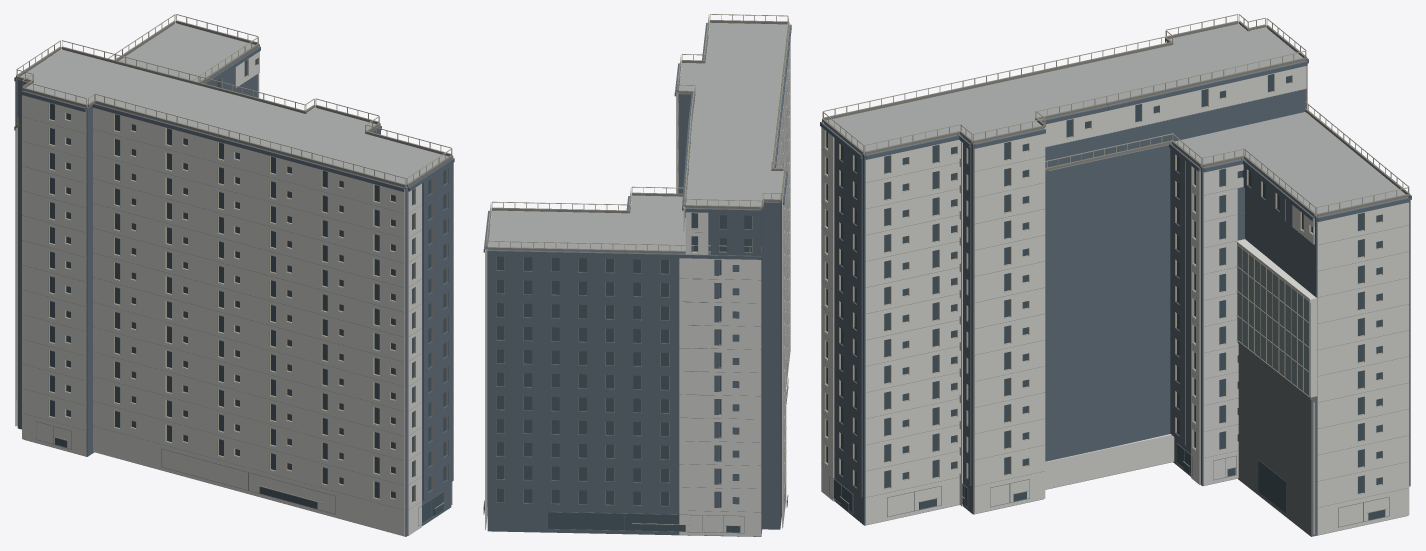
File: bespoke-raemian-onebailey-102.glb
3 renders of one model, left to right at view 1: azimuth 30°, elevation 25°; view 2: azimuth 150°, elevation 25°; view 3: azimuth 270°, elevation 25°, orthographic. The views are drawn at different scales.
Visible parts, largest first — view 1: 102_observed_facade_bays006_4, 102_setback_roof_and_bridge_bracing006_2, 102_authored_massing, 102_observed_facade_bays006_1, 102_observed_facade_bays006_2, 102_observed_facade_bays006_5, 102_setback_roof_and_bridge_bracing006; view 2: 102_authored_massing, 102_observed_facade_bays006_4, 102_setback_roof_and_bridge_bracing006_2, 102_observed_facade_bays006_1, 102_observed_facade_bays006_2, 102_setback_roof_and_bridge_bracing006, 102_observed_facade_bays006_5; view 3: 102_observed_facade_bays006_4, 102_authored_massing, 102_setback_roof_and_bridge_bracing006_2, 102_observed_facade_bays006_2, 102_observed_facade_bays006_1, 102_observed_facade_bays006_5, 102_observed_facade_bays006, 102_setback_roof_and_bridge_bracing006.
Part boxes in pixels (x1,y1,x2,y2): 102_observed_facade_bays006_4: (15, 46, 452, 536); 102_setback_roof_and_bridge_bracing006_2: (18, 23, 448, 187); 102_authored_massing: (14, 23, 454, 536); 102_observed_facade_bays006_1: (50, 59, 446, 523); 102_observed_facade_bays006_2: (16, 14, 452, 508); 102_observed_facade_bays006_5: (22, 72, 443, 526); 102_setback_roof_and_bridge_bracing006: (16, 20, 452, 187); 102_authored_massing: (483, 22, 791, 536); 102_observed_facade_bays006_4: (485, 26, 790, 536); 102_setback_roof_and_bridge_bracing006_2: (488, 22, 787, 254); 102_observed_facade_bays006_1: (483, 37, 788, 532); 102_observed_facade_bays006_2: (483, 14, 789, 526); 102_setback_roof_and_bridge_bracing006: (485, 20, 789, 254); 102_observed_facade_bays006_5: (547, 50, 790, 533); 102_observed_facade_bays006_4: (821, 41, 1409, 534); 102_authored_massing: (820, 24, 1411, 535); 102_setback_roof_and_bridge_bracing006_2: (826, 24, 1407, 217); 102_observed_facade_bays006_2: (822, 14, 1409, 513); 102_observed_facade_bays006_1: (826, 74, 1385, 520); 102_observed_facade_bays006_5: (821, 88, 1408, 536); 102_observed_facade_bays006: (1237, 245, 1309, 396); 102_setback_roof_and_bridge_bracing006: (822, 20, 1409, 216).
Size of the model in its own units: 36.14 by 44.65 by 62.83.
